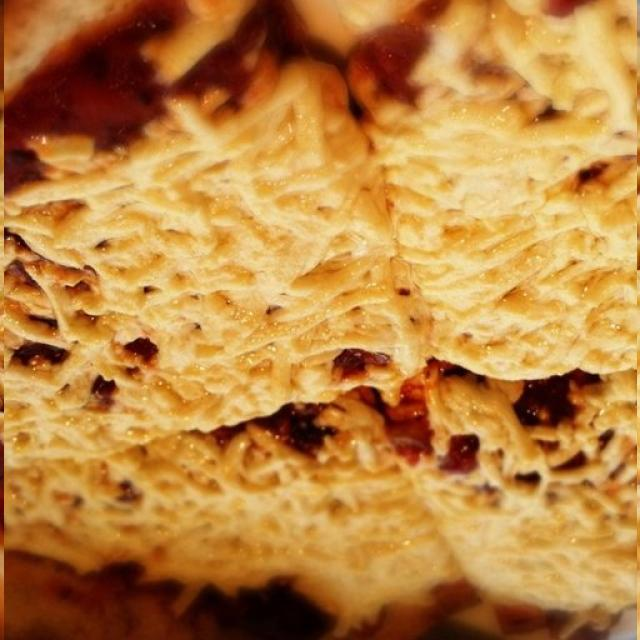pizza: (4, 0, 637, 640)
